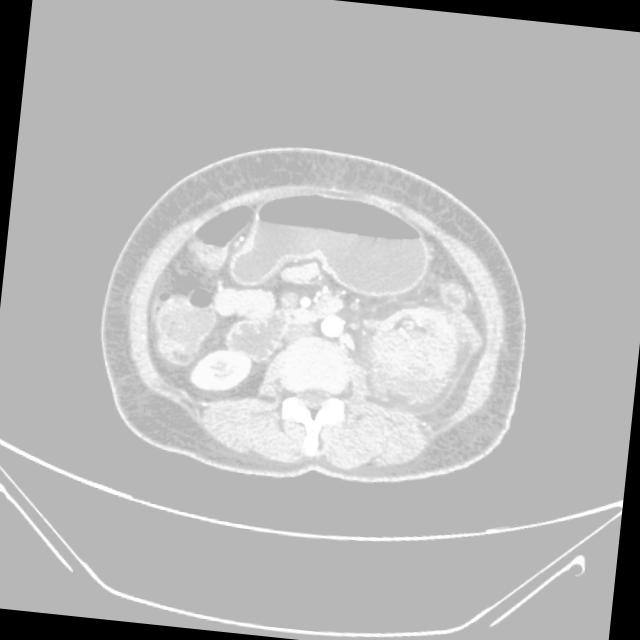TUMOR: (111, 223, 527, 420)
